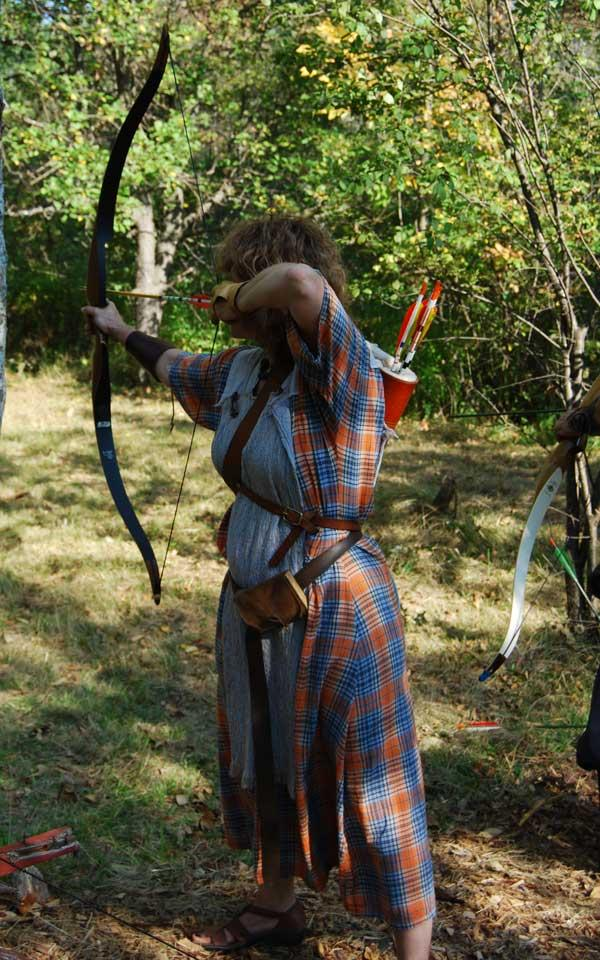person: (81, 204, 437, 959)
